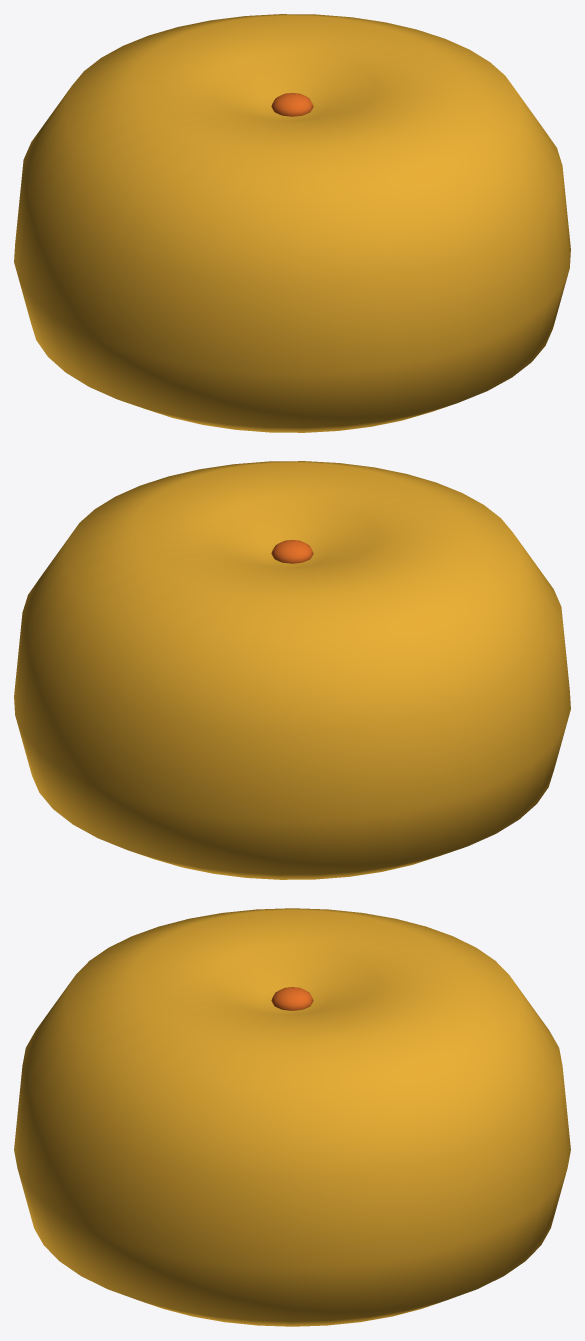
File: pufe_redondo_mostarda.glb
3 views of the same model, one above another, from view 1: azimuth 30°, elevation 25°; view 2: azimuth 150°, elevation 25°; view 3: azimuth 270°, elevation 25° (orthographic).
Visible parts, largest first — view 1: pufe_redondo_mostarda; view 2: pufe_redondo_mostarda; view 3: pufe_redondo_mostarda.
Part boxes in pixels (left/top/right/bottom): pufe_redondo_mostarda: left=14, top=14, right=570, bottom=432; pufe_redondo_mostarda: left=14, top=461, right=570, bottom=879; pufe_redondo_mostarda: left=14, top=908, right=570, bottom=1326.
Size of the model in its own units: 0.66 by 0.335 by 0.66.
Materials: 1 (1 with a texture image).
